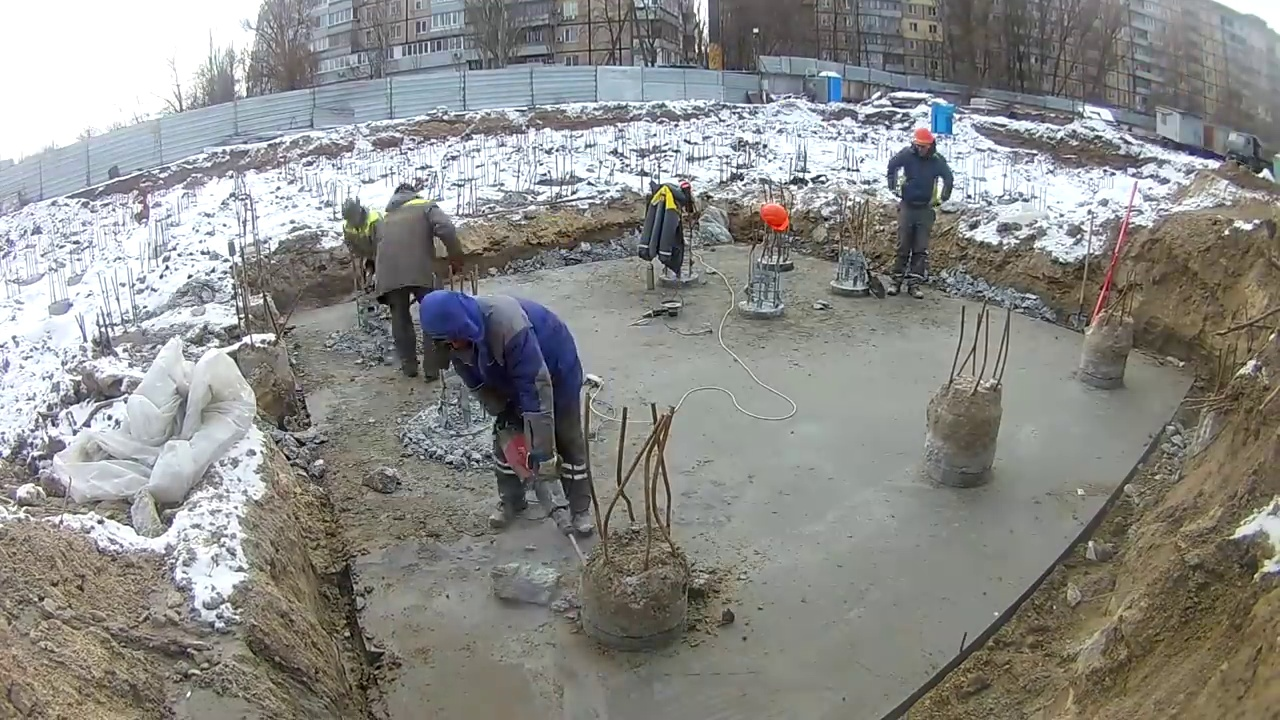helmet: (760, 203, 790, 231), (912, 129, 934, 146)
helmet-off: (420, 289, 491, 354), (382, 185, 425, 213), (341, 196, 365, 230)
helmet-on: (909, 129, 940, 160)
person: (417, 289, 594, 534), (366, 185, 463, 382), (886, 128, 957, 297), (339, 198, 383, 282)
